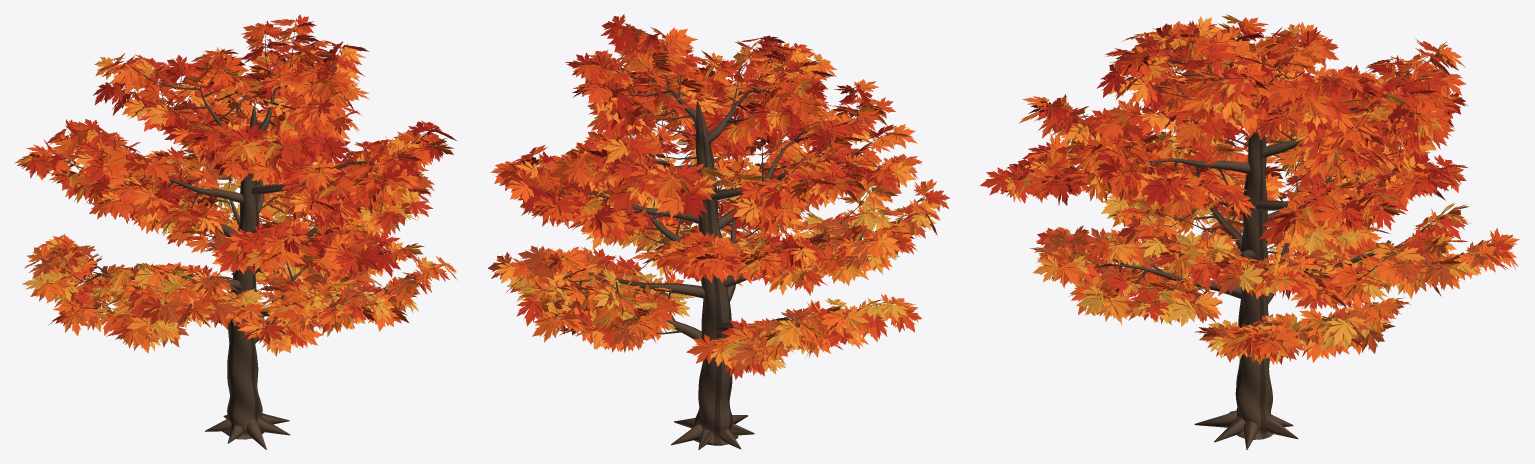
Rendered from autumn-maple-round-compact.glb.
The picture shows the model from 3 angles, left to right: view 1: azimuth 30°, elevation 25°; view 2: azimuth 150°, elevation 25°; view 3: azimuth 270°, elevation 25°; orthographic projection. The views are drawn at different scales.
Visible parts, largest first — view 1: round-compact-03-Seven-lobed-serrated-maple-leaves, round-compact-01-Flared-trunk-and-scaffold, round-compact-02-Connected-twigs-and-petioles; view 2: round-compact-03-Seven-lobed-serrated-maple-leaves, round-compact-01-Flared-trunk-and-scaffold, round-compact-02-Connected-twigs-and-petioles; view 3: round-compact-03-Seven-lobed-serrated-maple-leaves, round-compact-01-Flared-trunk-and-scaffold, round-compact-02-Connected-twigs-and-petioles.
Boxes of the visible parts, x1=… form: round-compact-03-Seven-lobed-serrated-maple-leaves: x1=14, y1=14, x2=458, y2=356; round-compact-01-Flared-trunk-and-scaffold: x1=91, y1=86, x2=374, y2=449; round-compact-02-Connected-twigs-and-petioles: x1=33, y1=24, x2=443, y2=342; round-compact-03-Seven-lobed-serrated-maple-leaves: x1=488, y1=14, x2=949, y2=379; round-compact-01-Flared-trunk-and-scaffold: x1=574, y1=81, x2=828, y2=449; round-compact-02-Connected-twigs-and-petioles: x1=510, y1=27, x2=931, y2=352; round-compact-03-Seven-lobed-serrated-maple-leaves: x1=980, y1=14, x2=1519, y2=364; round-compact-01-Flared-trunk-and-scaffold: x1=1101, y1=59, x2=1377, y2=449; round-compact-02-Connected-twigs-and-petioles: x1=1012, y1=21, x2=1484, y2=340.
Size of the model in its own units: 7.61 by 6.75 by 8.08.
